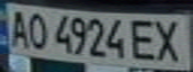2: (84, 15, 109, 60)
4: (103, 16, 130, 61), (48, 11, 72, 54)
9: (66, 14, 87, 56)
A: (3, 7, 30, 48)
E: (127, 16, 160, 62)
O: (24, 9, 51, 51)
X: (151, 16, 187, 63)
